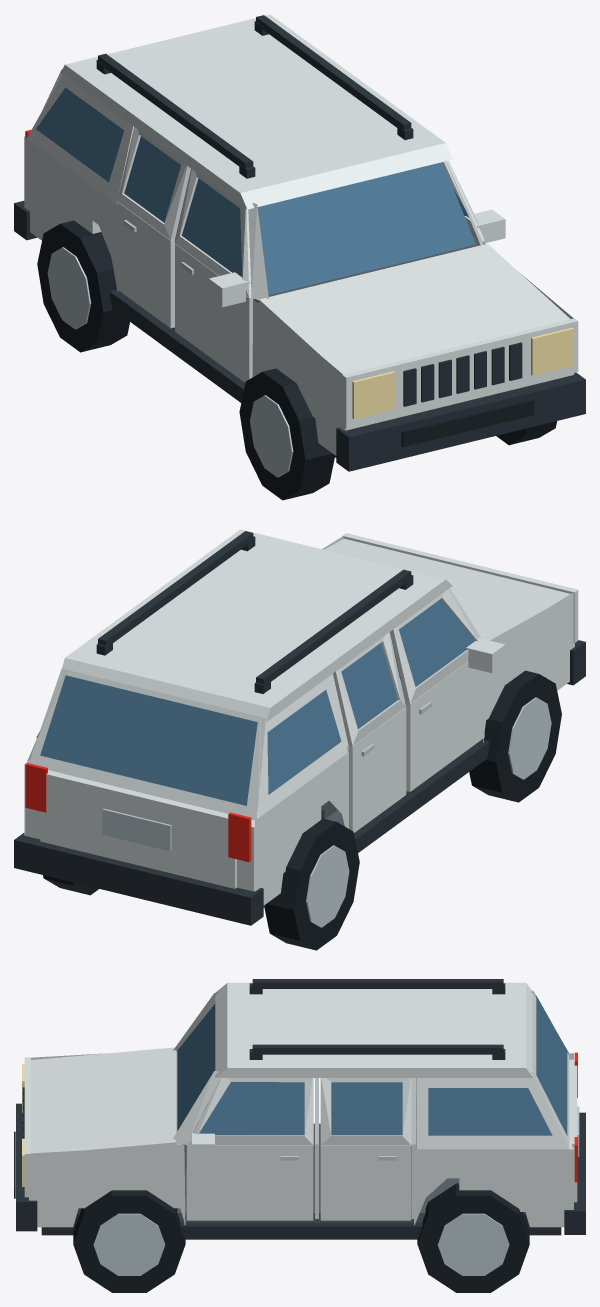
The model's file is white_jeep.glb.
The picture shows the model from 3 angles, top to bottom: view 1: azimuth 30°, elevation 25°; view 2: azimuth 150°, elevation 25°; view 3: azimuth 270°, elevation 25°; orthographic projection. The views are drawn at different scales.
Parts seen in each view (by area): view 1: Roof, Hood, Windshield, Front bumper, Front fascia, Door_L_Front_lower, Tire_L_Front, Tire_L_Rear, rear fender -1, front fender -1, Door_L_Rear_lower, Quarter glass L (+18 smaller); view 2: Roof, Rear window, Tailgate, Rear bumper, Hood, Door_L_Front_lower, Tire_L_Rear, Rear white surround, Tire_L_Front, rear fender -1, Door_L_Rear_lower, front fender -1 (+18 smaller); view 3: Roof, Hood, Door_R_Front_lower, rear fender 1, front fender 1, Door_R_Rear_lower, Tire_R_Rear, Tire_R_Front, Quarter glass R, Door_R_Front_window, Quarter frame R, Rocker 1 (+21 smaller).
Part boxes in pixels (x1,y1,x2,y2): Roof: (61,14,452,209); Hood: (255,243,573,430); Windshield: (257,162,475,294); Front bumper: (336,372,585,471); Front fascia: (342,318,578,428); Door_L_Front_lower: (175,244,253,382); Tire_L_Front: (239,368,334,500); Tire_L_Rear: (37,220,129,352); rear fender -1: (24,136,118,293); front fender -1: (252,299,344,455); Door_L_Rear_lower: (117,201,174,328); Quarter glass L: (36,87,123,182); Roof: (62,529,452,722); Rear window: (40,675,257,805); Tailgate: (40,771,236,888); Rear bumper: (14,833,263,925); Hood: (324,538,570,719); Door_L_Front_lower: (406,662,484,791); Tire_L_Rear: (264,818,359,950); Rear white surround: (29,668,265,820); Tire_L_Front: (469,670,561,802); rear fender -1: (255,752,348,905); Door_L_Rear_lower: (348,707,406,832); front fender -1: (483,592,574,742); Roof: (215,982,533,1077); Hood: (31,1047,181,1208); Door_R_Front_lower: (186,1145,313,1220); rear fender 1: (414,1149,573,1227); front fender 1: (29,1145,185,1227); Door_R_Rear_lower: (320,1145,411,1220); Tire_R_Rear: (417,1183,529,1292); Tire_R_Front: (73,1190,185,1292); Quarter glass R: (428,1088,552,1135); Door_R_Front_window: (199,1082,304,1135); Quarter frame R: (416,1072,568,1149); Rocker 1: (180,1222,422,1239).
Bounding box in the file's own units: 2.33 × 2.09 × 4.79.
